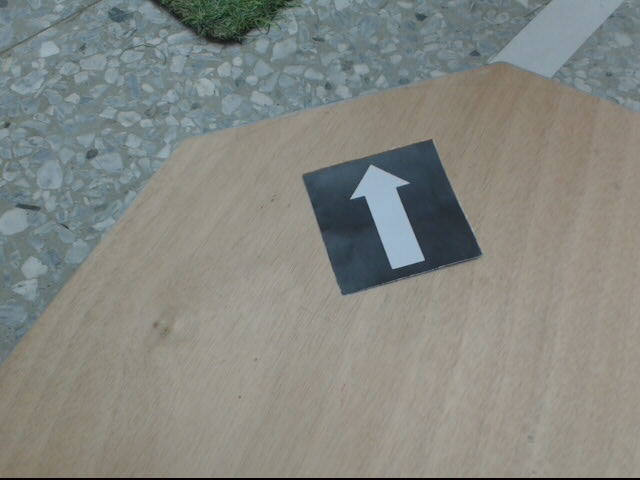straight: (301, 137, 485, 298)
